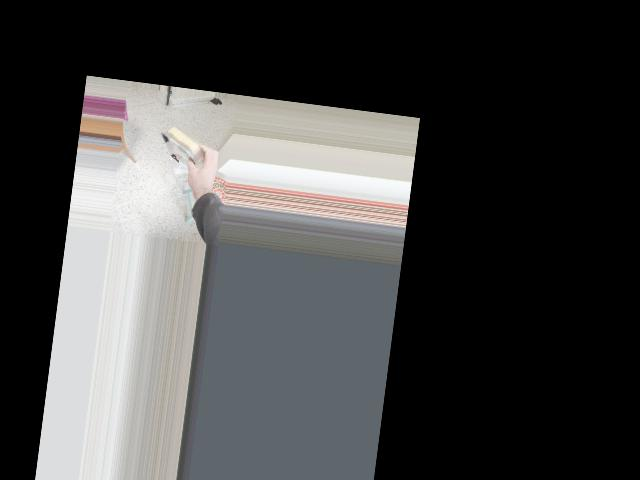cheese: (147, 114, 229, 184)
